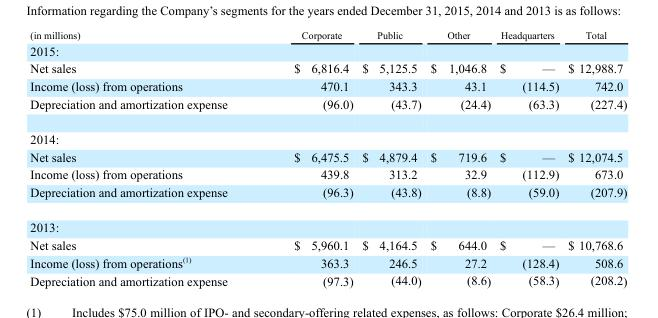table: (29, 28, 626, 287)
table column: (29, 28, 260, 287), (260, 28, 357, 287), (425, 28, 494, 287), (357, 28, 425, 287), (494, 28, 562, 287), (562, 28, 626, 287)
table column header: (29, 28, 626, 41)
table projected row header: (29, 209, 626, 236), (29, 121, 626, 147), (29, 41, 626, 59)
table row: (29, 94, 626, 121), (29, 209, 626, 236), (29, 121, 626, 147), (29, 183, 626, 209), (29, 41, 626, 59), (29, 76, 626, 94), (29, 147, 626, 165), (29, 165, 626, 183), (29, 253, 626, 271), (29, 59, 626, 76), (29, 236, 626, 253), (29, 271, 626, 287), (29, 28, 626, 41)
